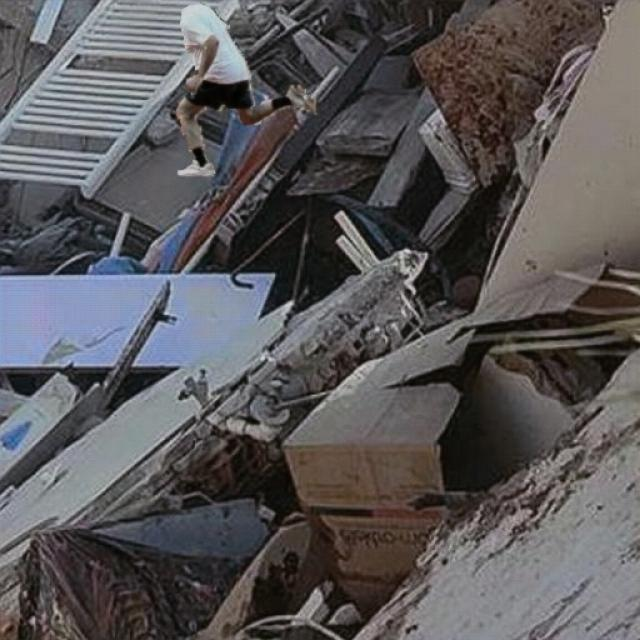Person in Rubble: (176, 2, 315, 176)
